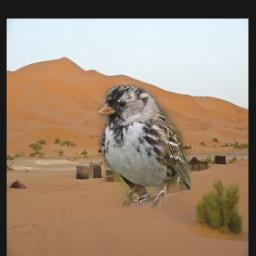Sparrow: (98, 84, 192, 209)
